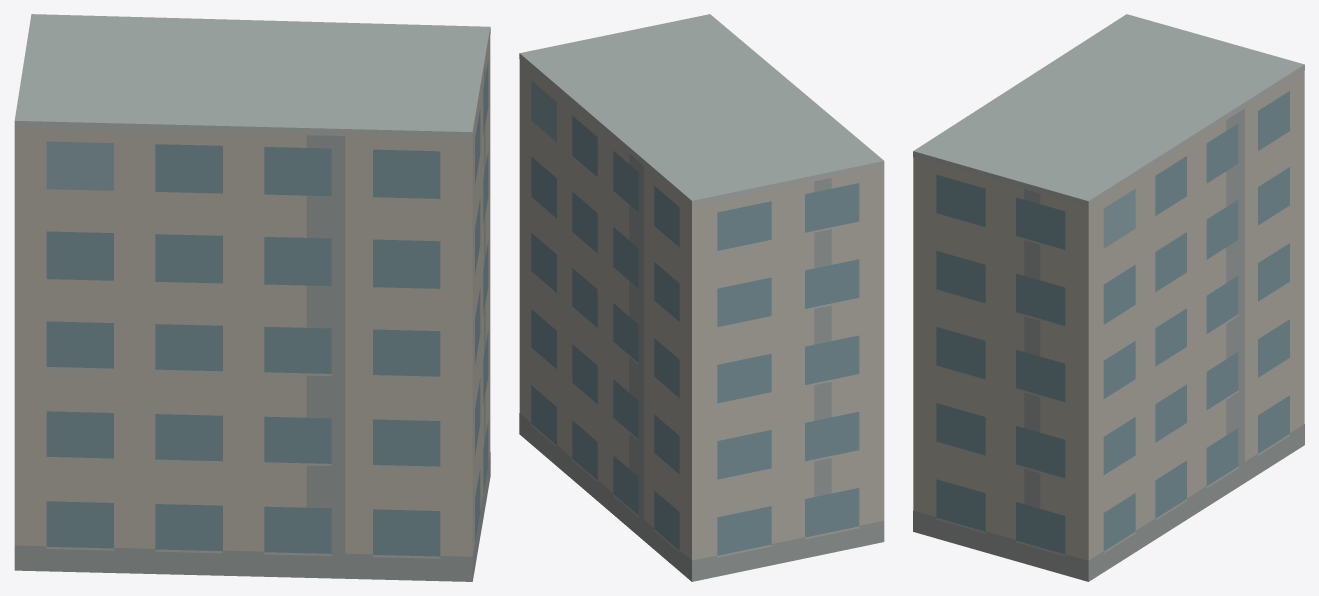
The model's file is survey-upis-32787916.glb.
3 views of the same model, side by side, from view 1: azimuth 30°, elevation 25°; view 2: azimuth 150°, elevation 25°; view 3: azimuth 270°, elevation 25° (orthographic). The views are drawn at different scales.
Visible parts, largest first — view 1: survey-upis-32787916.tmp; view 2: survey-upis-32787916.tmp; view 3: survey-upis-32787916.tmp.
Boxes of the visible parts, x1,y1,x2,y2 form: survey-upis-32787916.tmp: (14, 14, 490, 581); survey-upis-32787916.tmp: (519, 14, 884, 581); survey-upis-32787916.tmp: (913, 14, 1304, 581).
Bounding box in the file's own units: 16.09 × 15.25 × 14.23.
